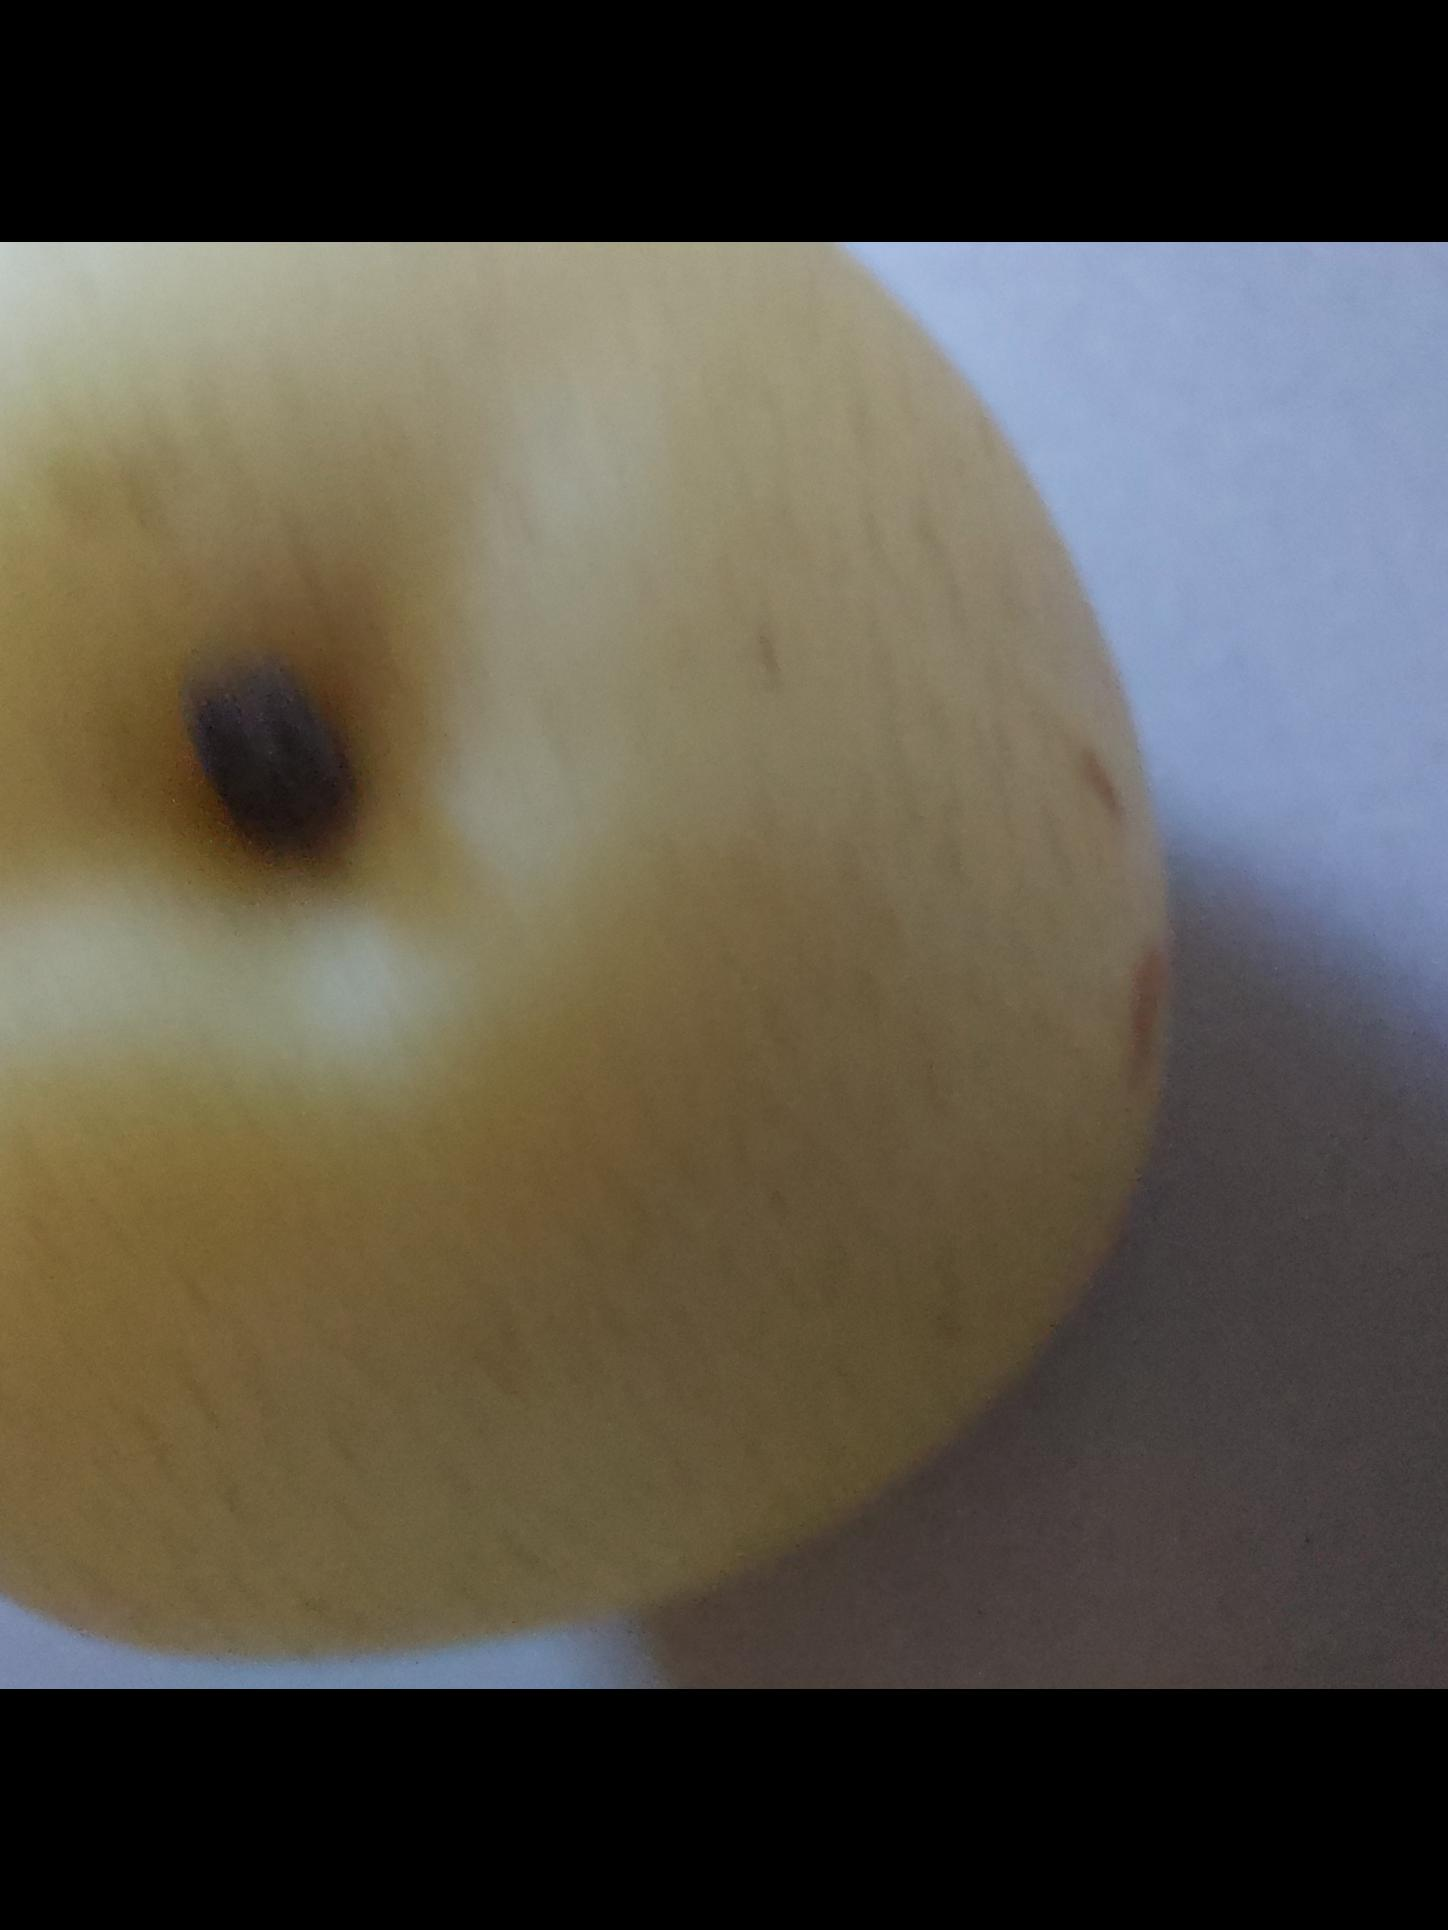Good Pear: (0, 240, 1311, 1690)
